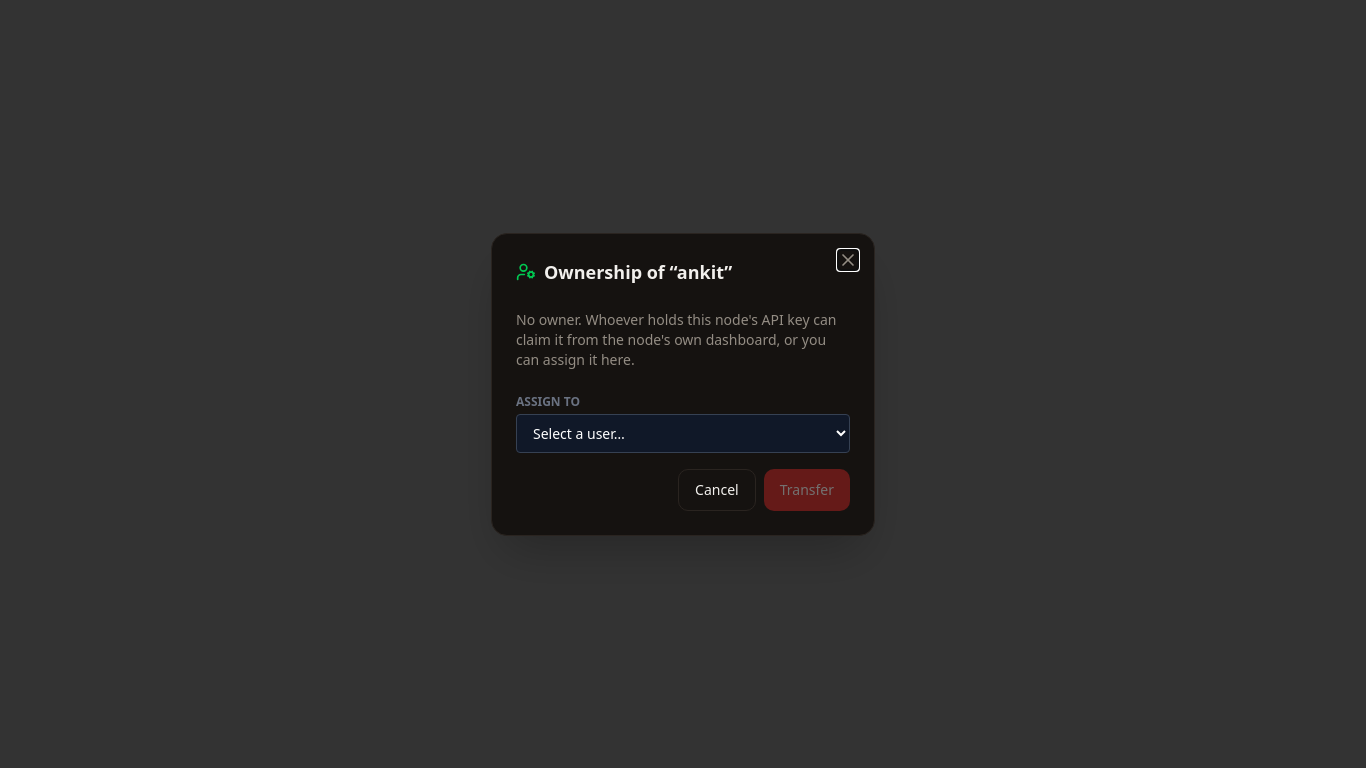
it: TransferNodeModal › spells out what a non-admin owner will be able to do
Select "sagarkumar" in the dropdown labelled "Assign to" at {"x": 683, "y": 433}, box [516,414,850,452]
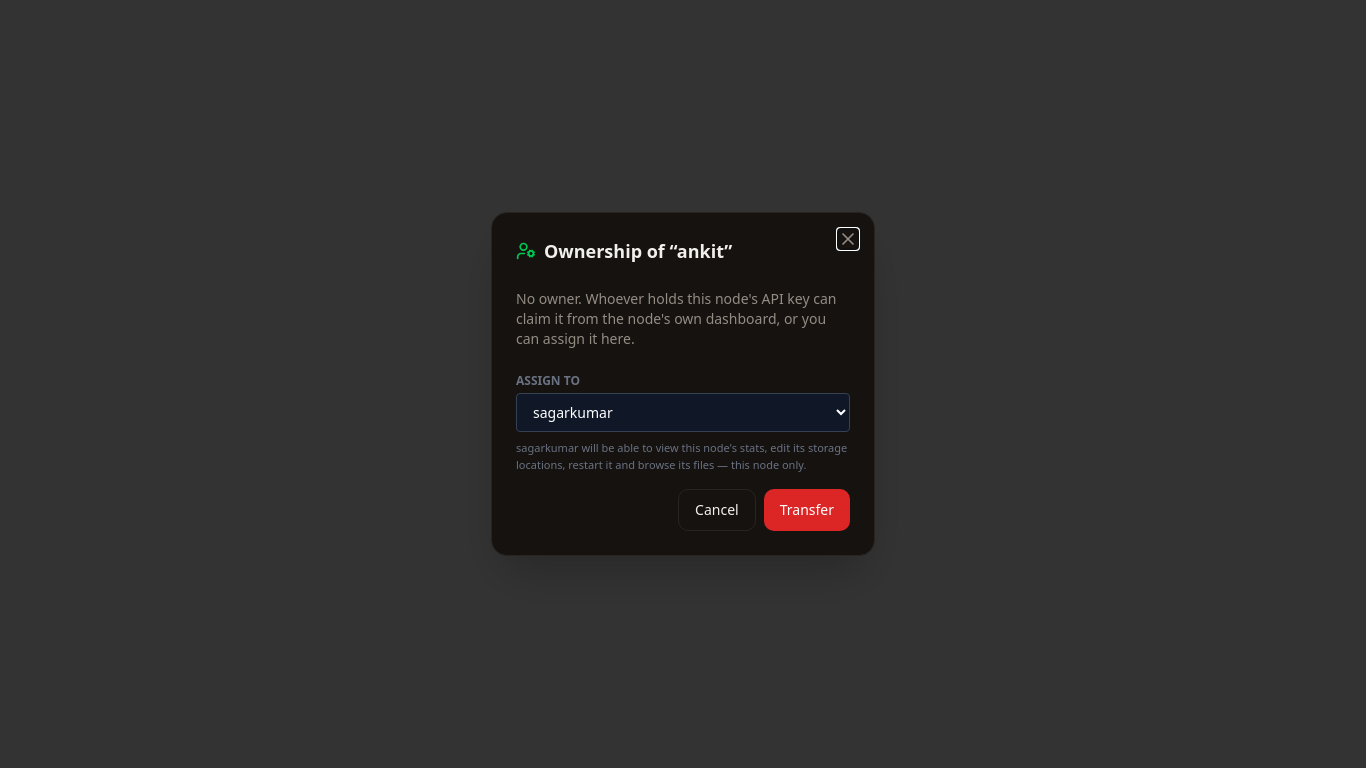
Expected: the text "sagarkumar will be able to view this node" is shown, [516,440,850,473]
